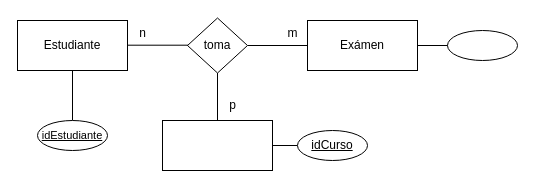
Image size: 535x188. Some labels were removed from this diagram. Here are the shapes that lost their labels. From the top down, the centre of each, then its label:
At [482,45]: "idExámen".
At [217,145]: "Curso".
